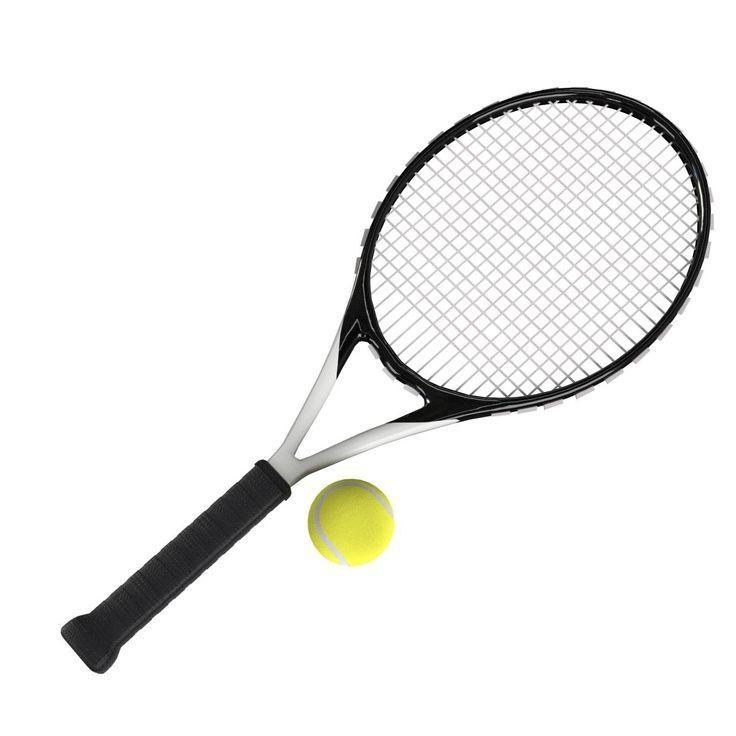Tennis-Racket: (50, 70, 736, 682)
